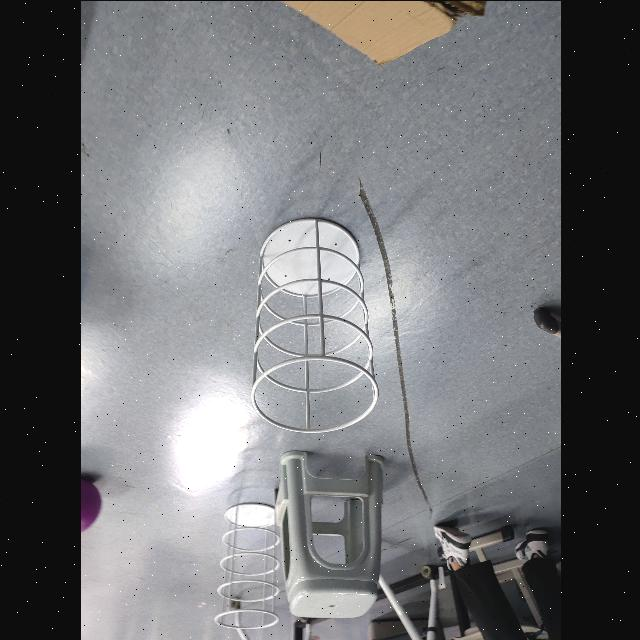S: (248, 214, 382, 434)
